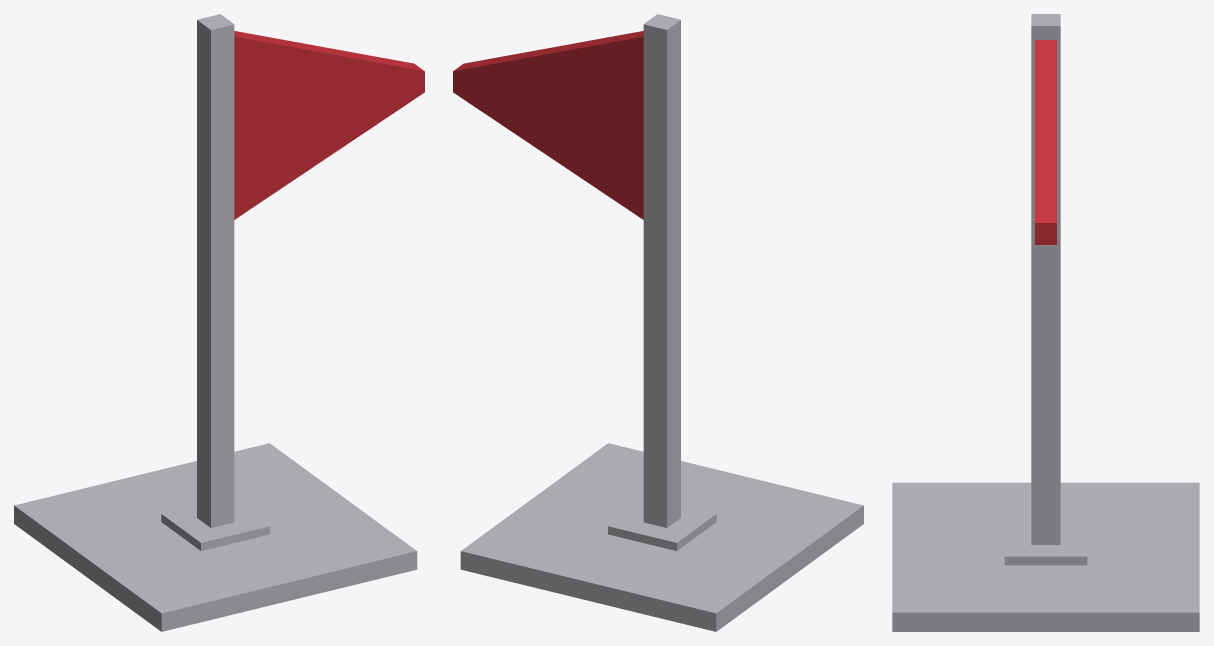
File: checkpoint_flag.fbx
3 views of the same model, side by side, from view 1: azimuth 30°, elevation 25°; view 2: azimuth 150°, elevation 25°; view 3: azimuth 270°, elevation 25° (orthographic). The views are drawn at different scales.
Visible parts, largest first — view 1: Cube, Cube.002, Cube.001; view 2: Cube, Cube.002, Cube.001; view 3: Cube, Cube.001, Cube.002.
Part boxes in pixels (x1,y1,x2,y2): Cube: (14, 443, 417, 631); Cube.002: (234, 31, 424, 219); Cube.001: (197, 14, 234, 527); Cube: (460, 443, 863, 631); Cube.002: (453, 31, 643, 219); Cube.001: (643, 14, 680, 527); Cube: (892, 482, 1199, 631); Cube.001: (1031, 14, 1060, 544); Cube.002: (1035, 40, 1056, 244).
Bounding box in the file's own units: 260 × 393 × 200.
